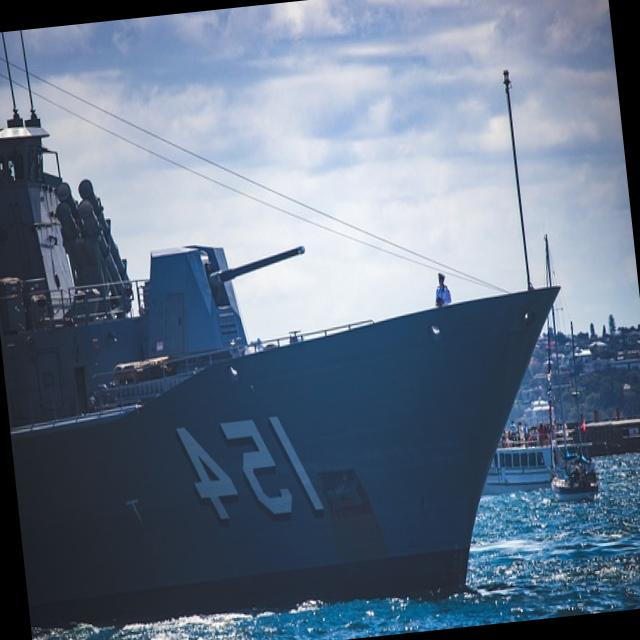Military: (0, 29, 558, 630)
